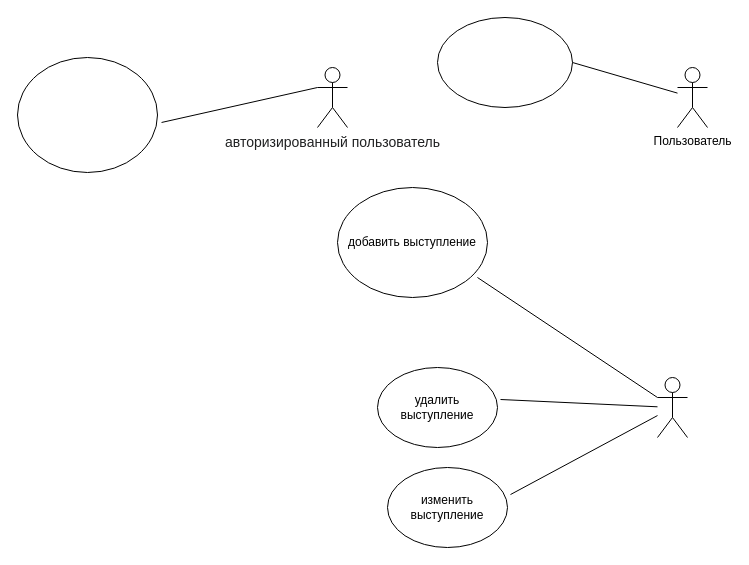
Some shapes in this 749 by 565 pixel diagram are drawn without their labels. The shapes that lost their labels are listed below. From the top down, each one's centre as x and y in pixels, then its label:
At [504,62]: "регистрация".
At [87,114]: "купить билет".
At [672,407]: "Администрация".
